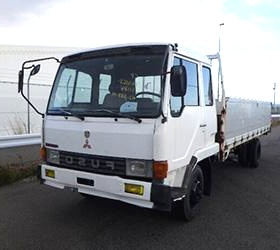truck: (30, 45, 277, 222)
